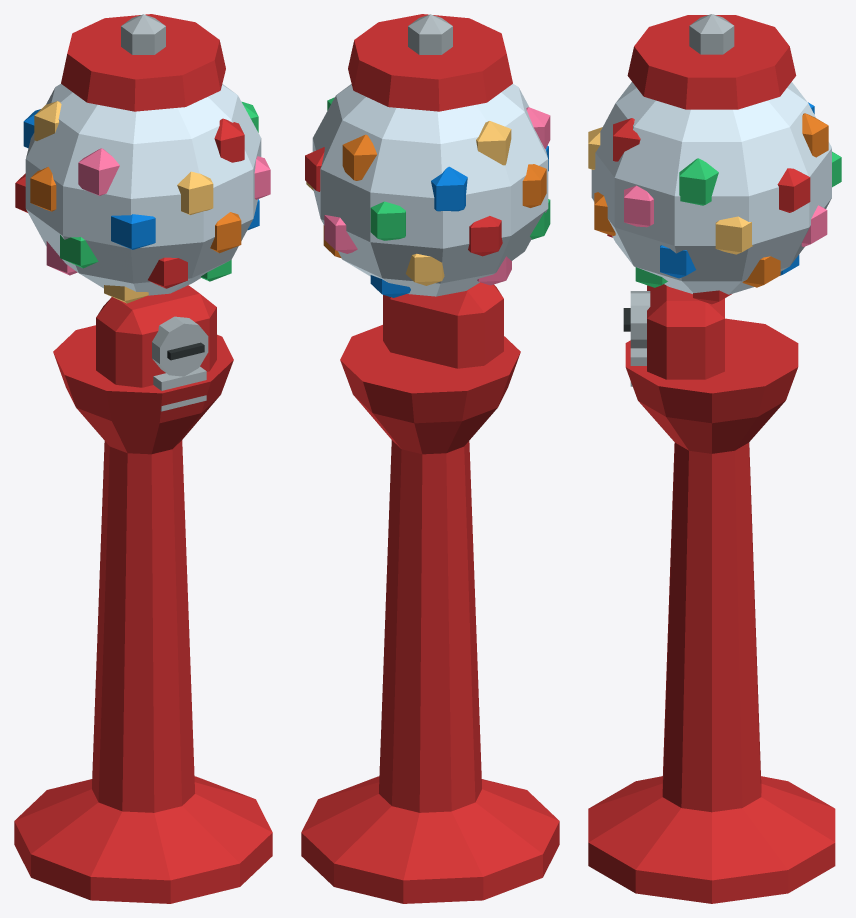
File: kaugummiautomat.glb
The picture shows the model from 3 angles, left to right: view 1: azimuth 30°, elevation 25°; view 2: azimuth 150°, elevation 25°; view 3: azimuth 270°, elevation 25°; orthographic projection.
Visible parts, largest first — view 1: kaugummiautomat-m; view 2: kaugummiautomat-m; view 3: kaugummiautomat-m.
Part boxes in pixels (left/top/right/bottom): kaugummiautomat-m: left=14, top=14, right=272, bottom=903; kaugummiautomat-m: left=301, top=14, right=559, bottom=903; kaugummiautomat-m: left=588, top=14, right=841, bottom=903.
Bounding box in the file's own units: 0.4 × 1.42 × 0.3904.
